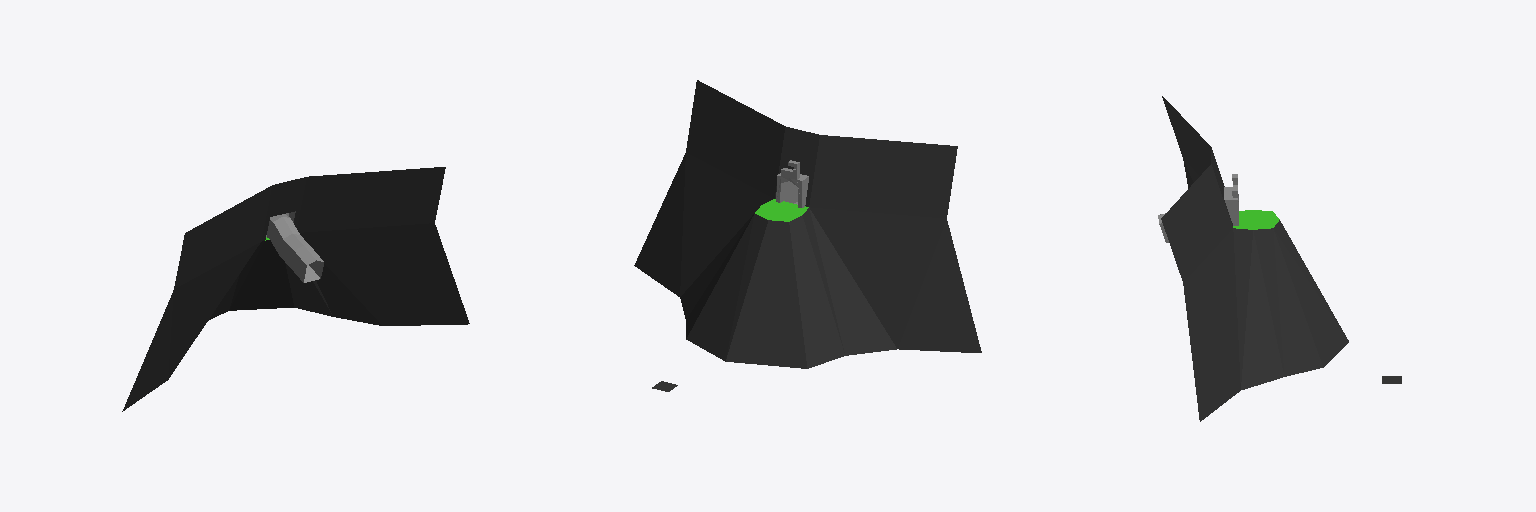
Rendered from labyrinth_of_bernard.obj.
3 views of the same model, side by side, from view 1: azimuth 30°, elevation 25°; view 2: azimuth 150°, elevation 25°; view 3: azimuth 270°, elevation 25° (orthographic).
Visible parts, largest first — view 1: Cube; view 2: Cube; view 3: Cube.
Boxes of the visible parts, x1=… form: Cube: x1=122, y1=167, x2=469, y2=411; Cube: x1=634, y1=80, x2=981, y2=368; Cube: x1=1158, y1=96, x2=1348, y2=421.
Bounding box in the file's own units: 40.14 × 22.28 × 24.42.